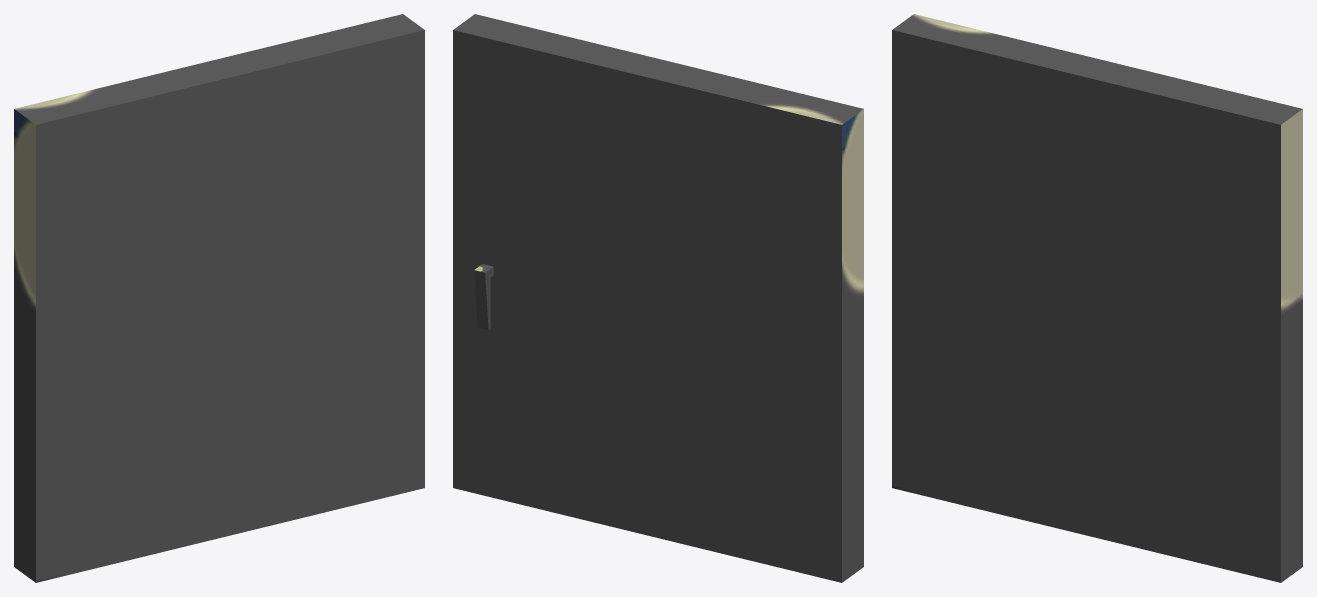
The model's file is heavyDoor.fbx.
3 views of the same model, side by side, from view 1: azimuth 30°, elevation 25°; view 2: azimuth 150°, elevation 25°; view 3: azimuth 330°, elevation 25° (orthographic).
Parts seen in each view (by area): view 1: pCube4; view 2: pCube4, pCube5; view 3: pCube4.
Part boxes in pixels (<box>): pCube4: <box>14,14,424,582</box>; pCube4: <box>453,14,863,582</box>; pCube5: <box>474,264,493,329</box>; pCube4: <box>892,14,1302,582</box>.
Size of the model in its own units: 3.54 by 3.98 by 0.4771.
Materials: 1 (1 with a texture image).
